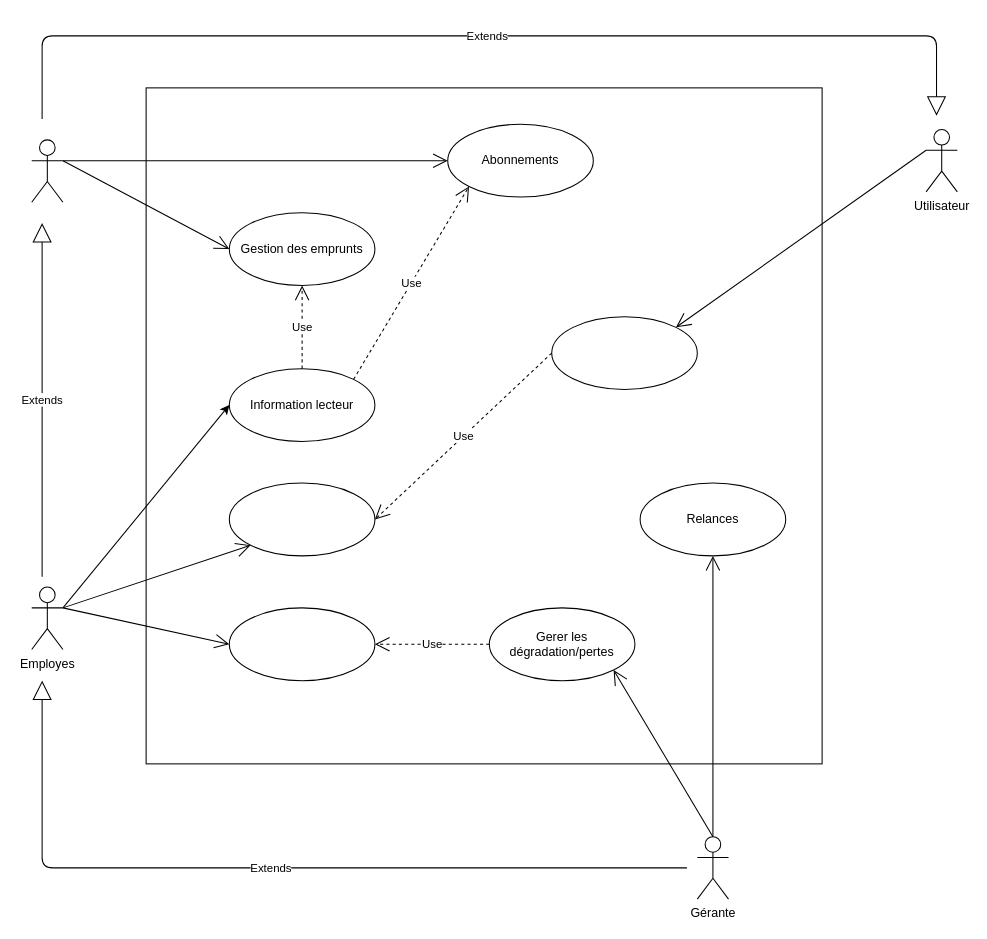
Some shapes in this 987 by 939 pixel diagram are drawn without their labels. The centre of each missing label's shape, as x and y in pixels:
Ajouter/Modifier un document: point 301,519
Benevoles: point 47,170
Consulter informations: point 624,352
Retours des documents: point 301,644
